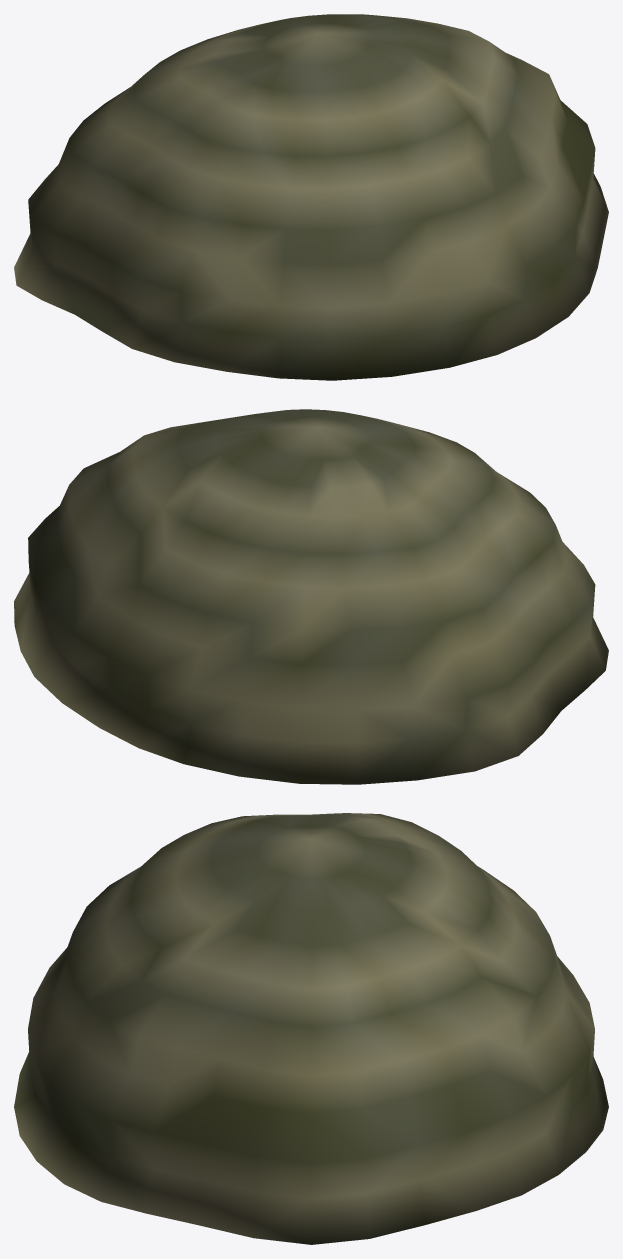
File: triassic-stromatolite-1.glb
3 renders of one model, top to bottom at view 1: azimuth 30°, elevation 25°; view 2: azimuth 150°, elevation 25°; view 3: azimuth 270°, elevation 25°, orthographic. The views are drawn at different scales.
Visible parts, largest first — view 1: triassic-stromatolite-1; view 2: triassic-stromatolite-1; view 3: triassic-stromatolite-1.
Part boxes in pixels (box(x1,y1,x2,y2)): triassic-stromatolite-1: box(14, 14, 608, 380); triassic-stromatolite-1: box(14, 409, 608, 784); triassic-stromatolite-1: box(14, 813, 608, 1244).
Size of the model in its own units: 0.7263 by 0.314 by 0.6224.
